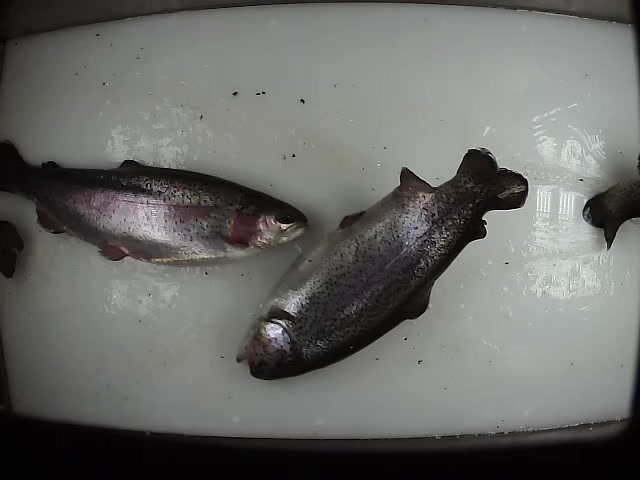fish: (234, 144, 531, 381), (1, 140, 310, 270)
